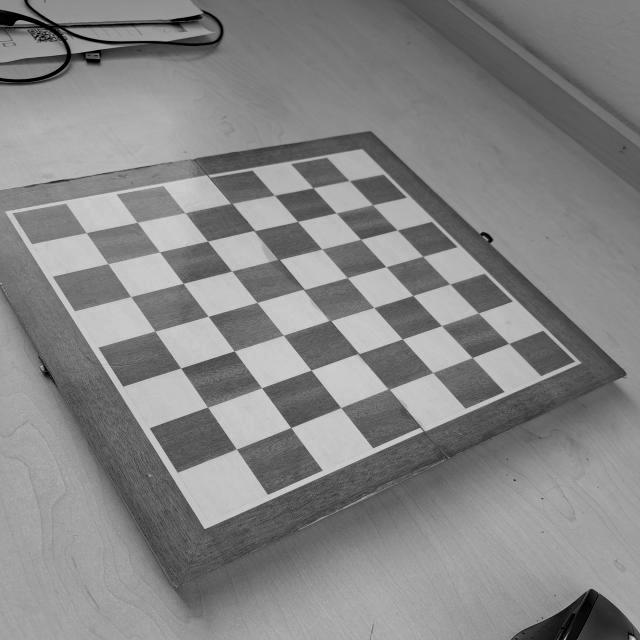chess-table-corners: (192, 508, 224, 532), (2, 205, 26, 222), (350, 146, 370, 158)
